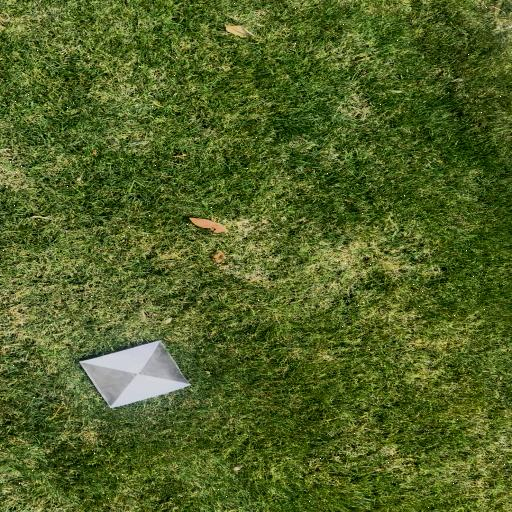target: (79, 340, 191, 408)
